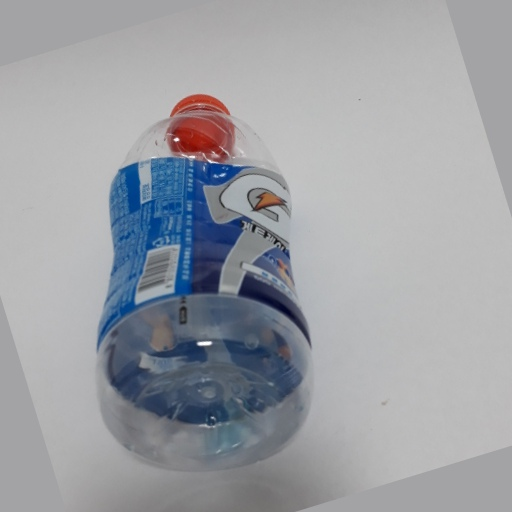Plastic_0: (98, 92, 317, 470)
